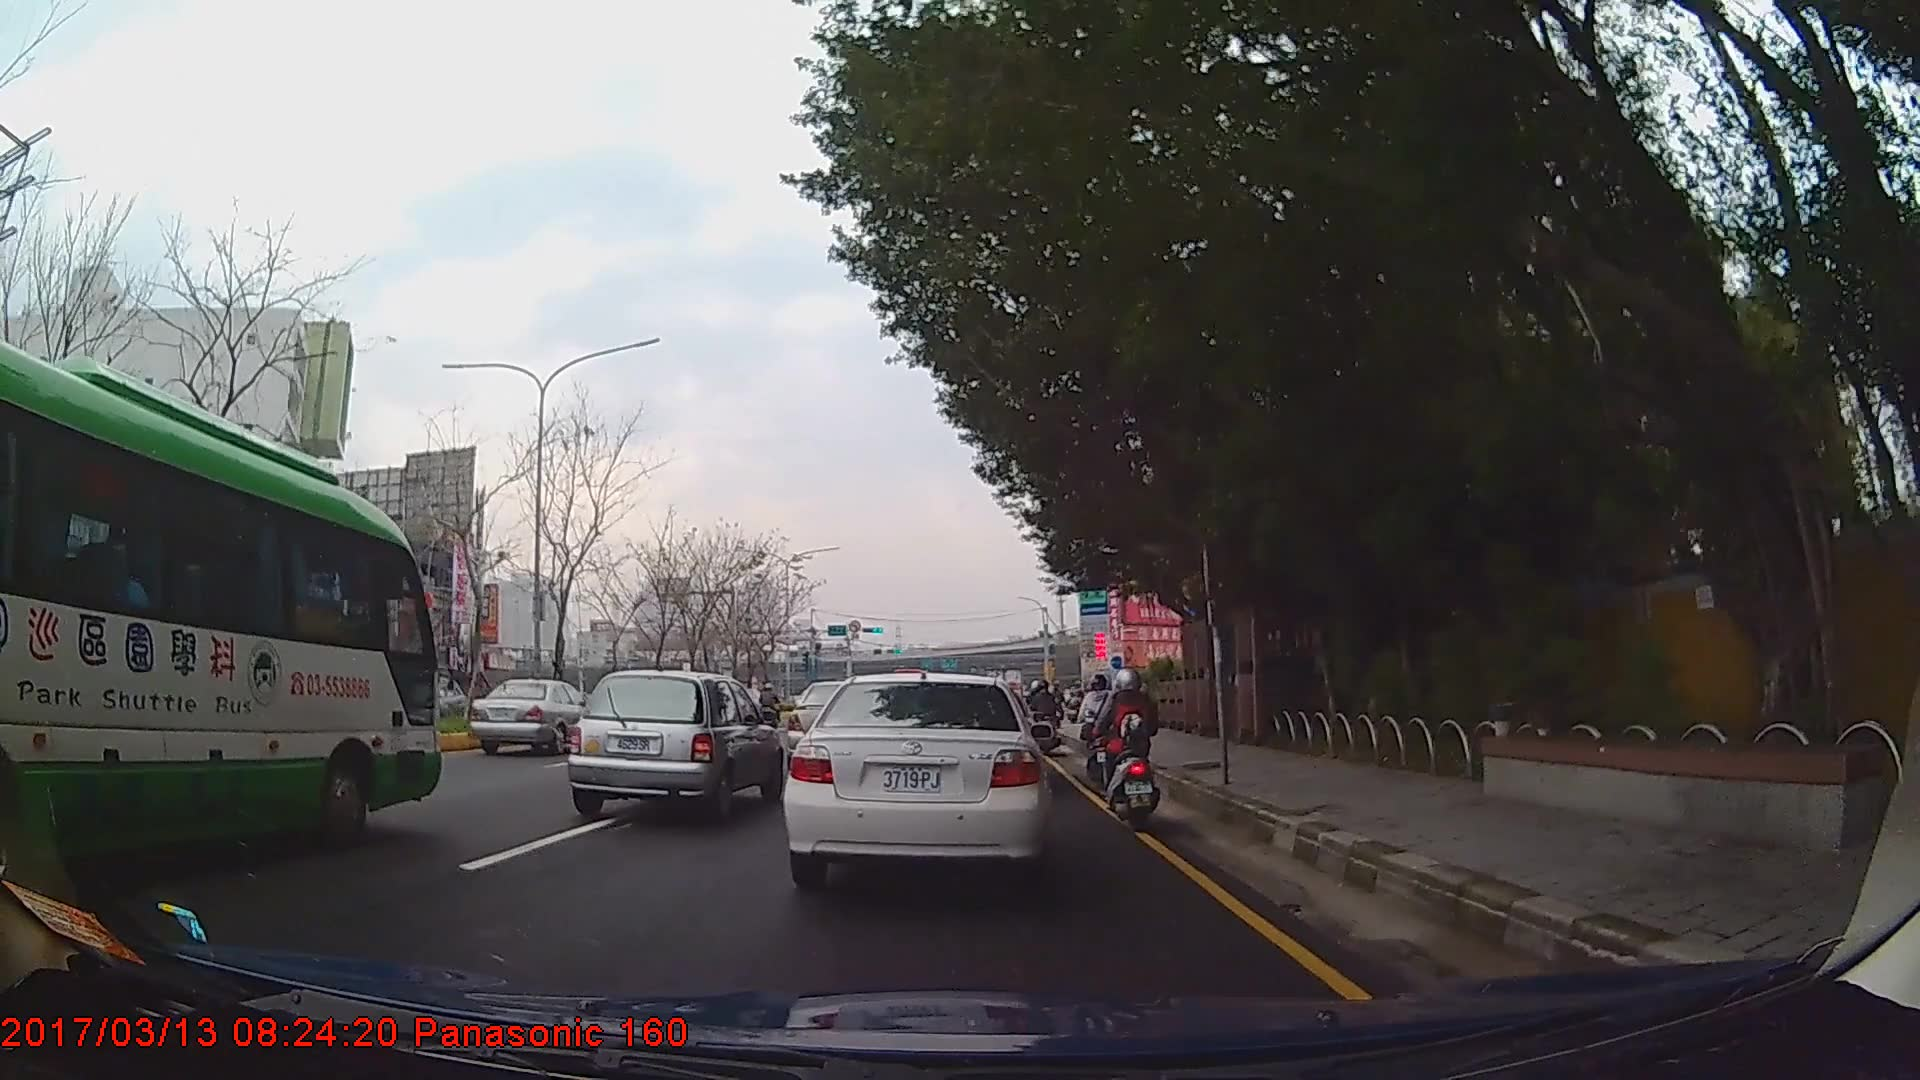rider: (1104, 661, 1164, 820), (1077, 674, 1123, 791), (1033, 676, 1060, 736)
vehicle: (0, 335, 440, 890), (781, 669, 1049, 887), (566, 666, 786, 820), (470, 675, 598, 753)
